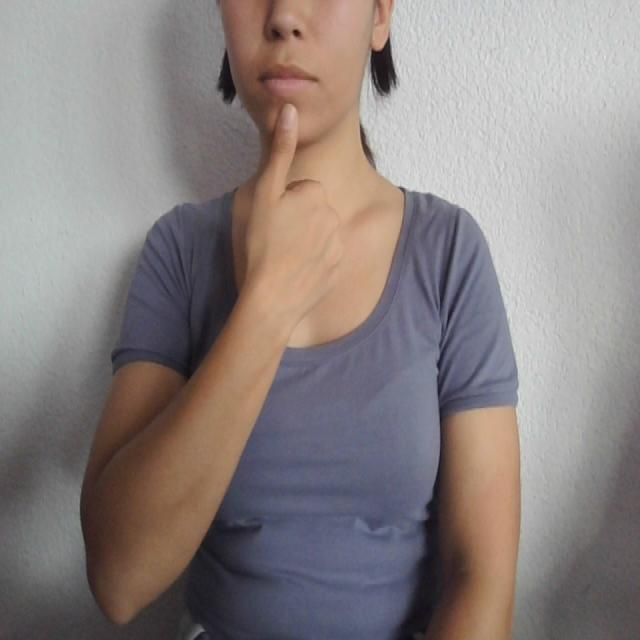Baba: (250, 44, 328, 175)
